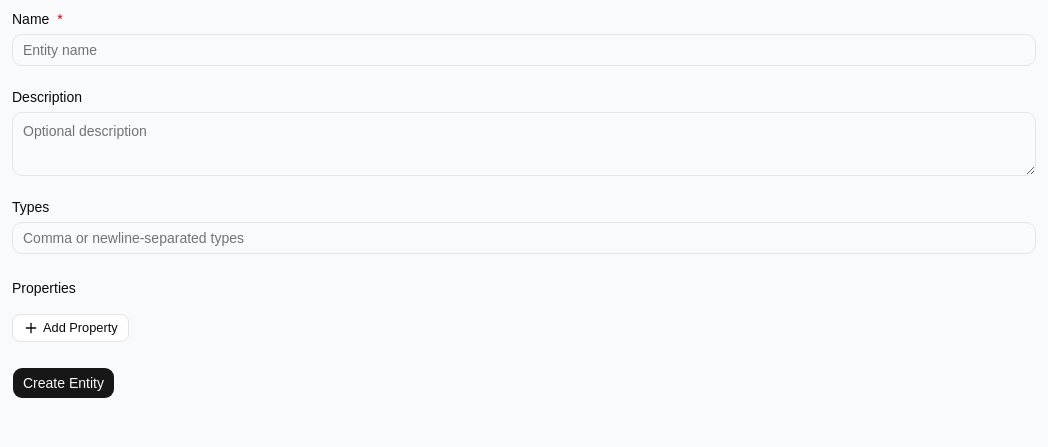
it: EntityForm › validation › shows error when name is empty on submit
Step 1. Click the button with test id "entity-submit" → (63, 383), box top-left (12, 367), bottom-right (115, 399)
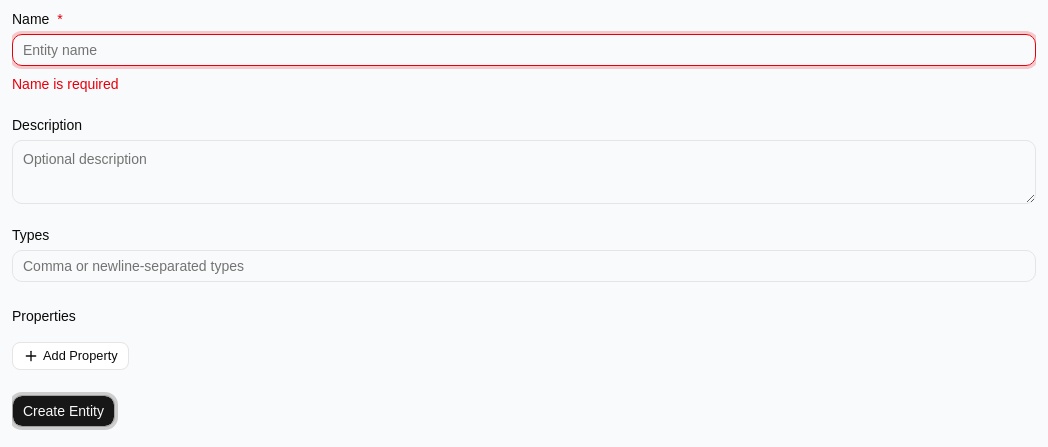
Expected: the text with test id "name-error" reads "Name is required", top-left (12, 76), bottom-right (119, 92)
